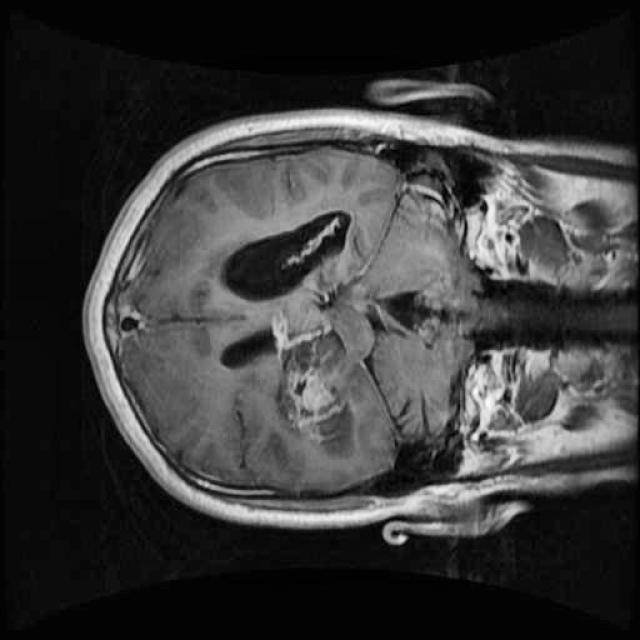Tumor: (260, 304, 381, 470)
